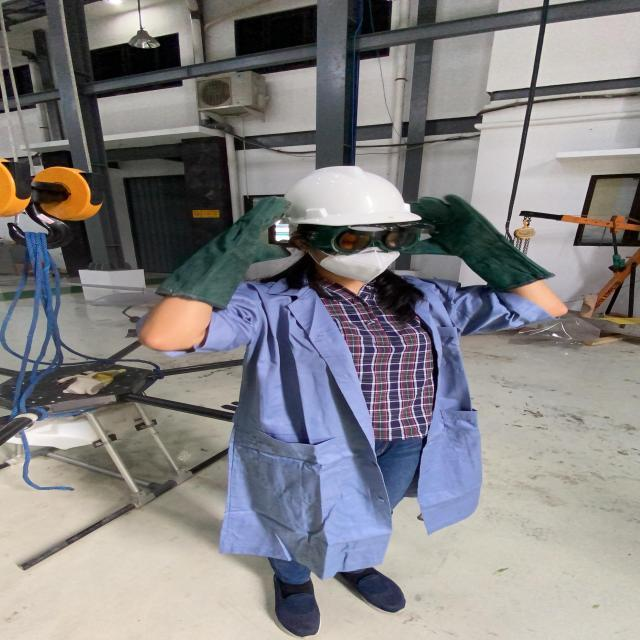glasses: (282, 219, 434, 258)
